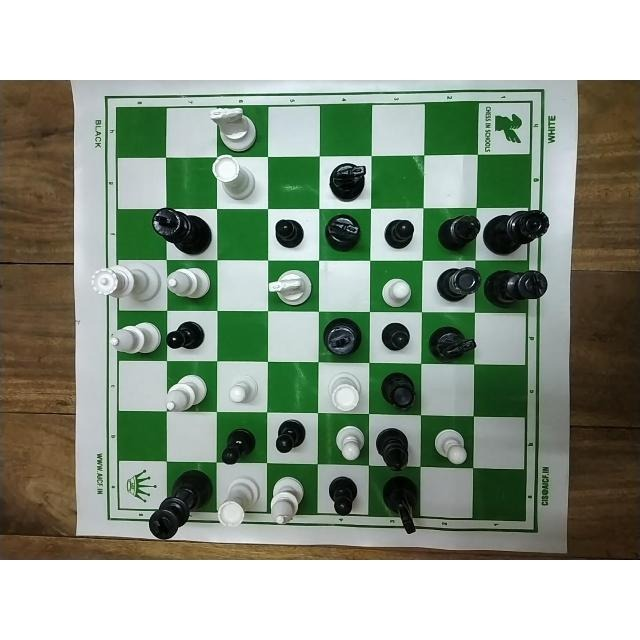black-bishop: (432, 212, 480, 249), (376, 426, 412, 472)
black-king: (147, 470, 214, 540), (151, 207, 213, 257), (483, 268, 548, 308), (322, 317, 362, 356)
black-knight: (380, 476, 421, 534), (428, 324, 477, 361), (326, 161, 368, 203), (324, 211, 360, 252)
black-pawn: (325, 476, 365, 515), (222, 426, 256, 464), (165, 319, 204, 351), (383, 215, 415, 250), (377, 319, 410, 351), (275, 419, 306, 453), (272, 216, 303, 249)
black-queen: (483, 207, 550, 255)
black-rook: (435, 266, 479, 302), (380, 370, 418, 411)
white-bishop: (108, 321, 162, 355), (269, 475, 303, 527), (164, 373, 208, 411), (164, 266, 210, 299)
white-knight: (208, 103, 258, 149), (267, 267, 311, 307)
white-pawn: (431, 426, 468, 465), (332, 426, 364, 464), (224, 372, 258, 405), (379, 276, 413, 308)
white-queen: (88, 262, 162, 304)
white-rook: (217, 475, 261, 528), (209, 153, 254, 203), (325, 370, 364, 414)
